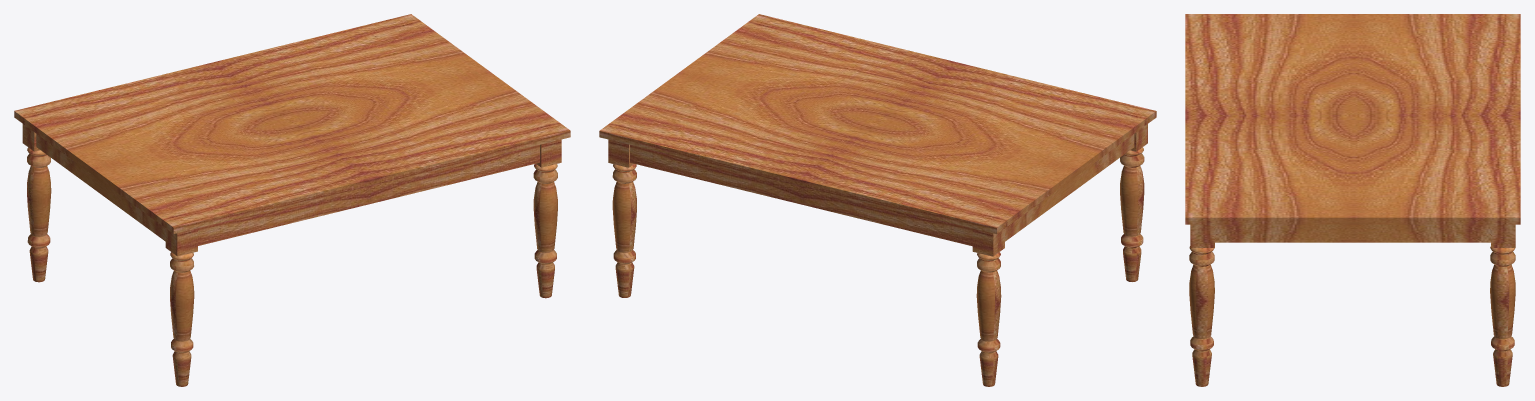
Rendered from Table.FBX.
3 renders of one model, left to right at view 1: azimuth 30°, elevation 25°; view 2: azimuth 150°, elevation 25°; view 3: azimuth 270°, elevation 25°, orthographic. The views are drawn at different scales.
Visible parts, largest first — view 1: Table; view 2: Table; view 3: Table.
Boxes of the visible parts, <box> form: Table: <box>14,14,570,386</box>; Table: <box>599,14,1156,386</box>; Table: <box>1185,14,1520,386</box>.
Bounding box in the file's own units: 223 × 89.54 × 155.
Materials: 2 (1 with a texture image).
